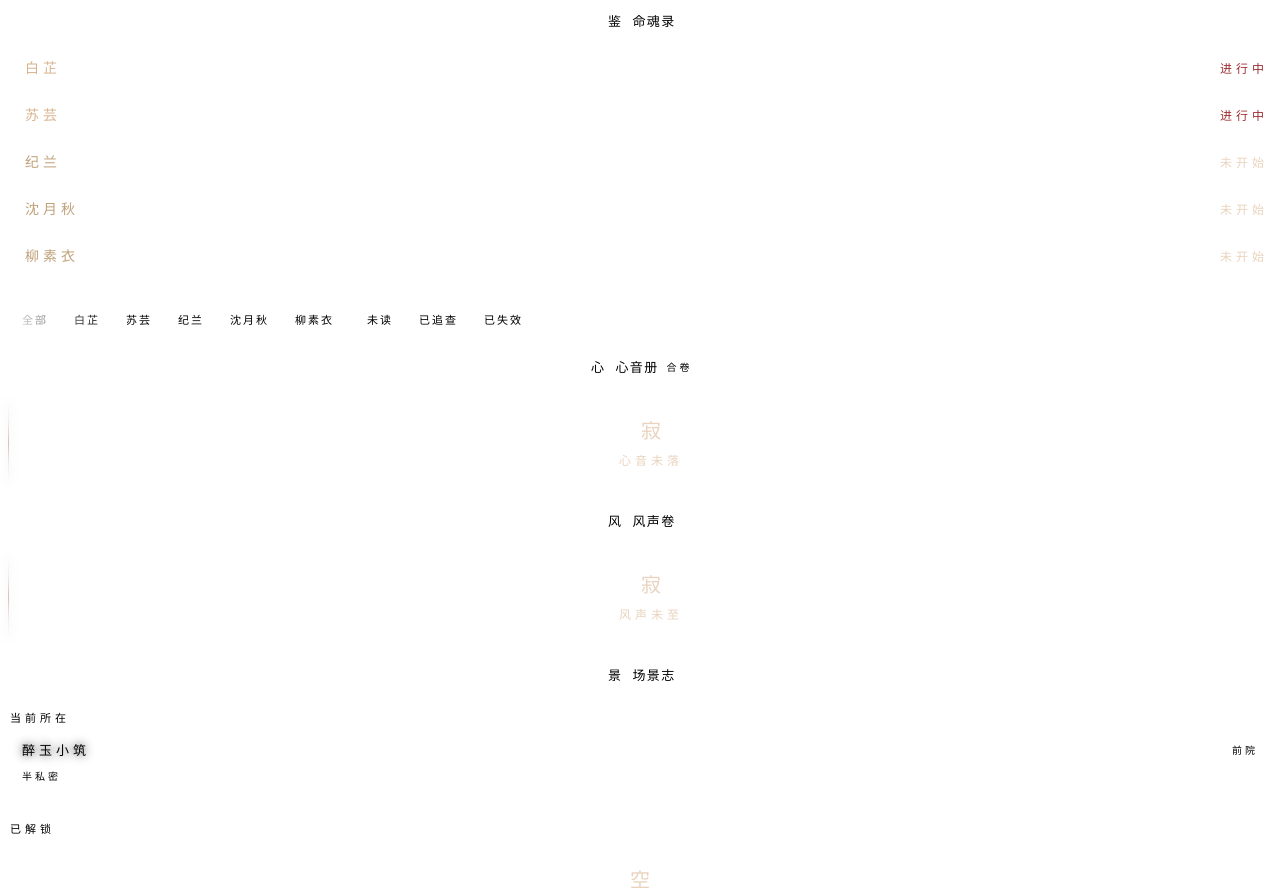
GalleryPage › 点击不同NPC切换详情
The image size is (1280, 893).
What coordinates should you click on to do the following:
click the element with class "npc-entry" showing "白芷 进行中"
I would click on:
 (43, 68)
Its box is 25,60 -> 1268,76.
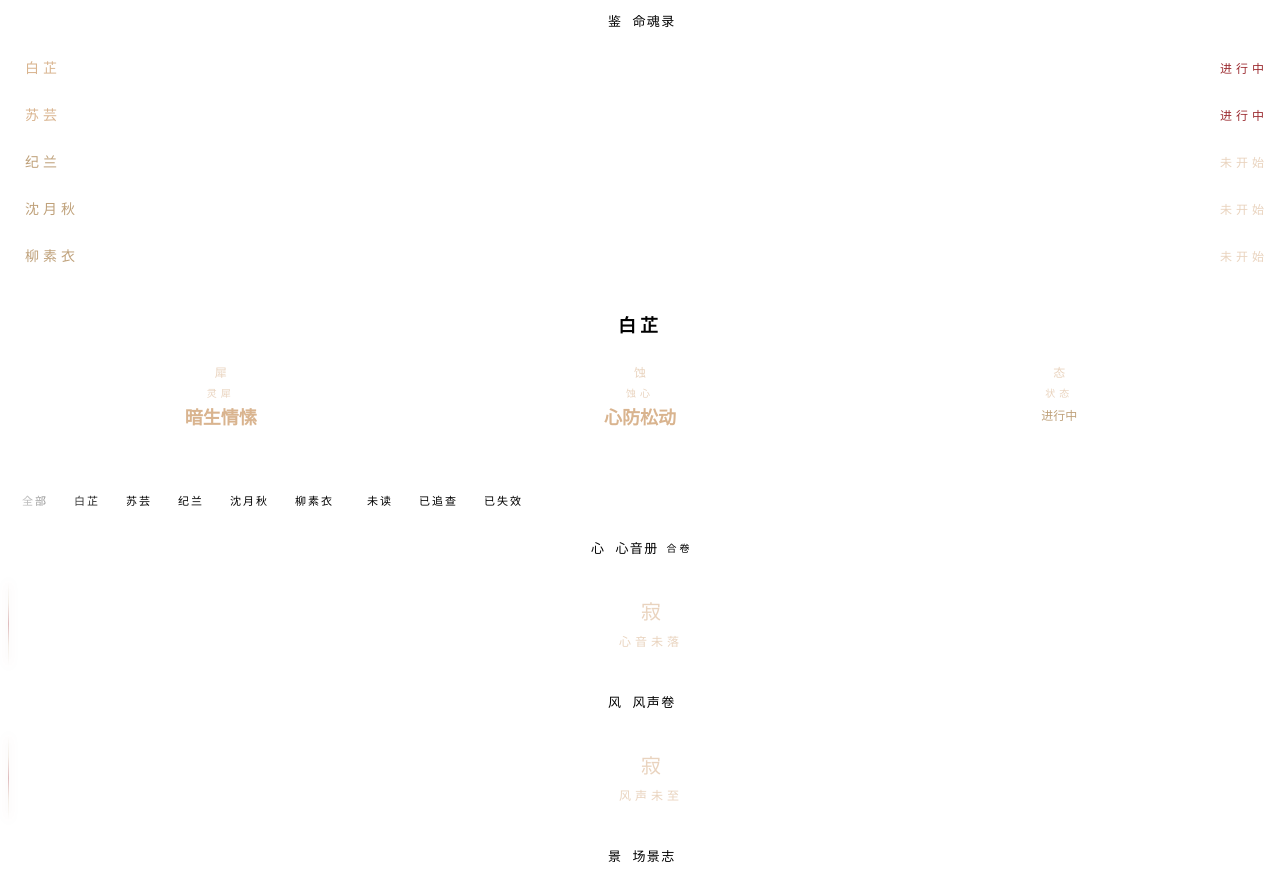
expect the 2nd text "白芷" is shown: met, box 618,313 -> 662,340
What coordinates should you click on to do the following:
click the element with class "npc-entry" showing "苏芸 进行中"
I would click on:
 (43, 116)
Its box is 25,108 -> 1268,123.
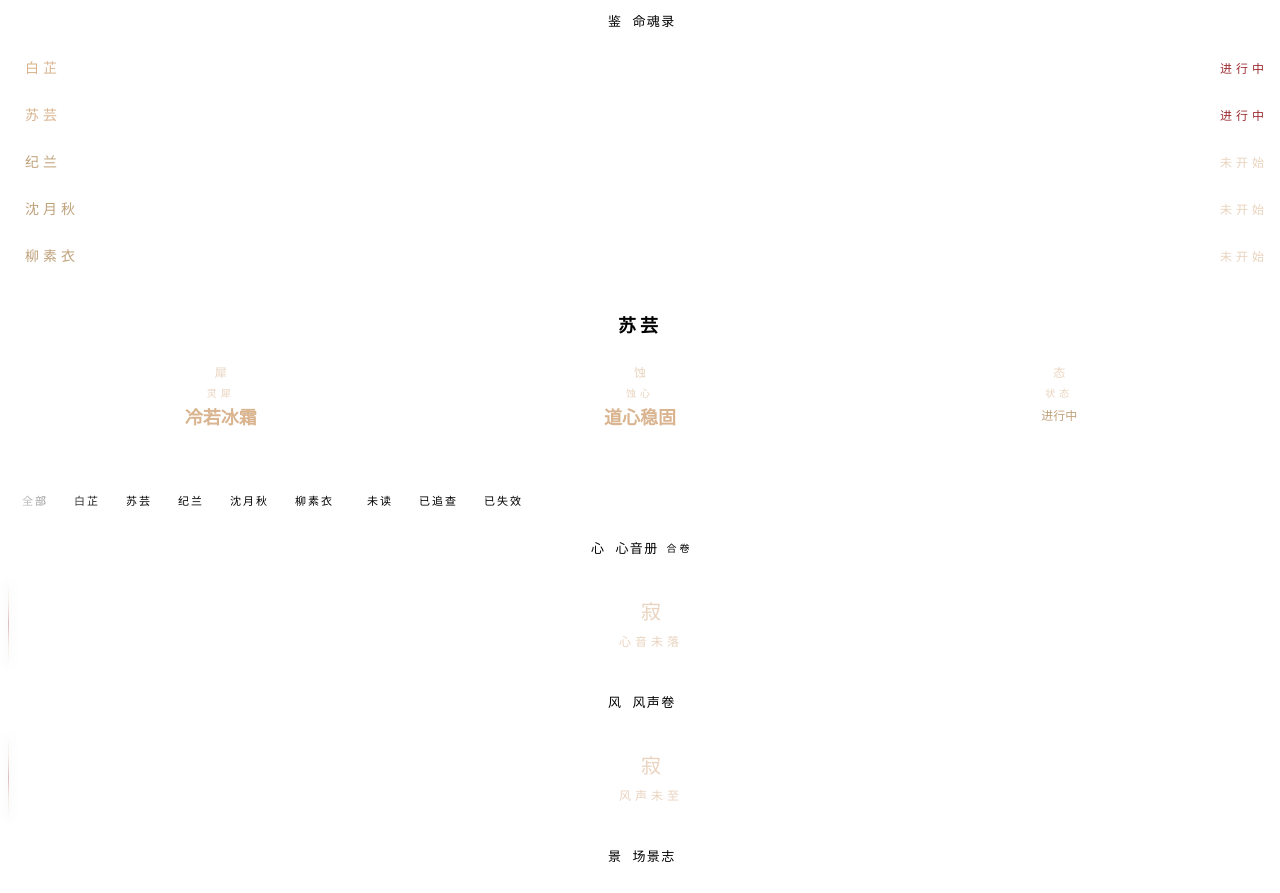
expect the 2nd text "苏芸" is shown: met, box 618,313 -> 662,340
